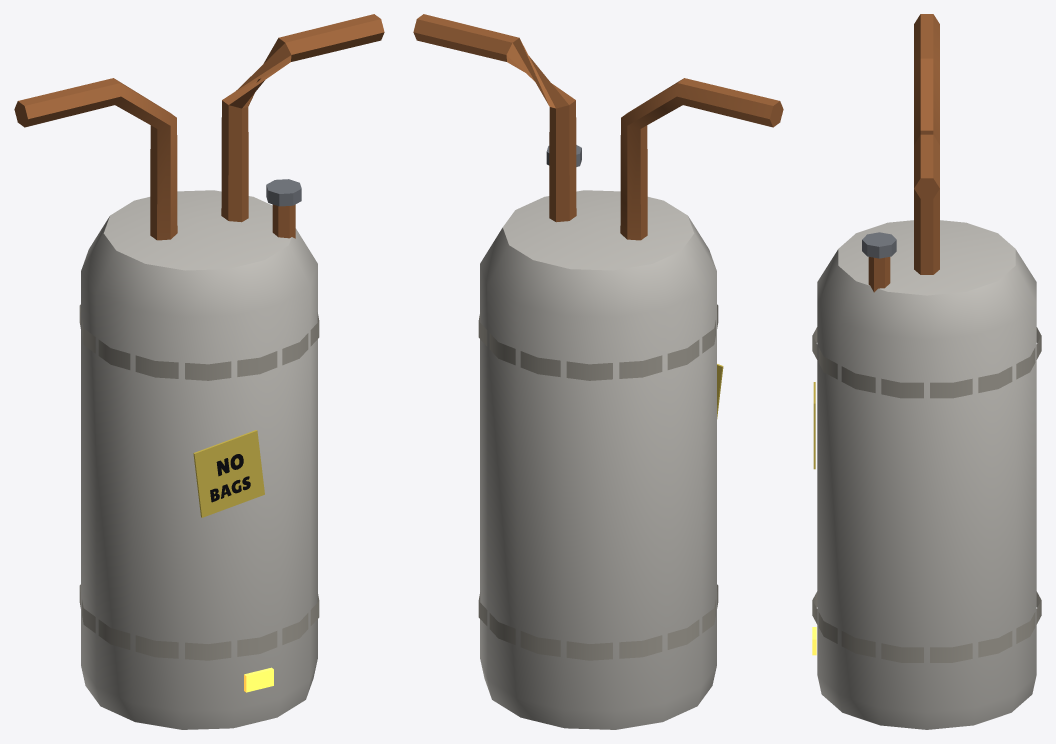
The model's file is water_heater.glb.
3 views of the same model, side by side, from view 1: azimuth 30°, elevation 25°; view 2: azimuth 150°, elevation 25°; view 3: azimuth 270°, elevation 25° (orthographic). The views are drawn at different scales.
Parts seen in each view (by area): view 1: body; view 2: body; view 3: body.
Boxes of the visible parts, <box> form: body: <box>14,14,384,729</box>; body: <box>413,14,783,729</box>; body: <box>812,14,1041,729</box>.
Bounding box in the file's own units: 1.8 × 3 × 1.06.
